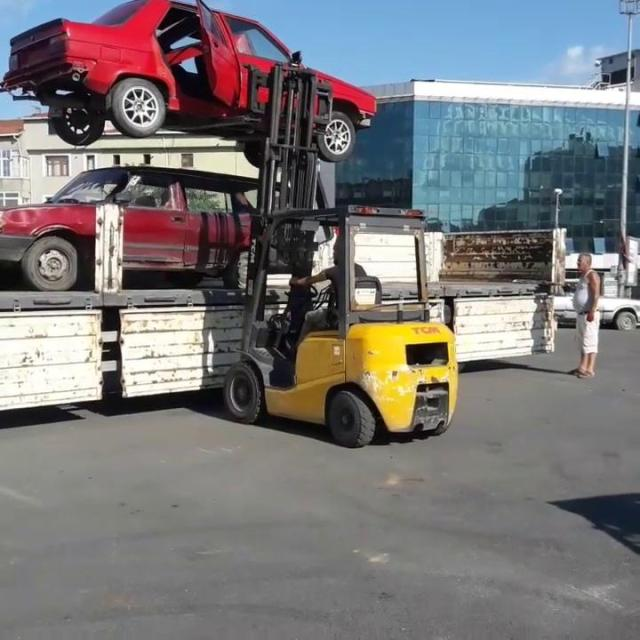forklift: (262, 138, 459, 452)
person: (268, 218, 402, 384), (564, 216, 608, 388)
